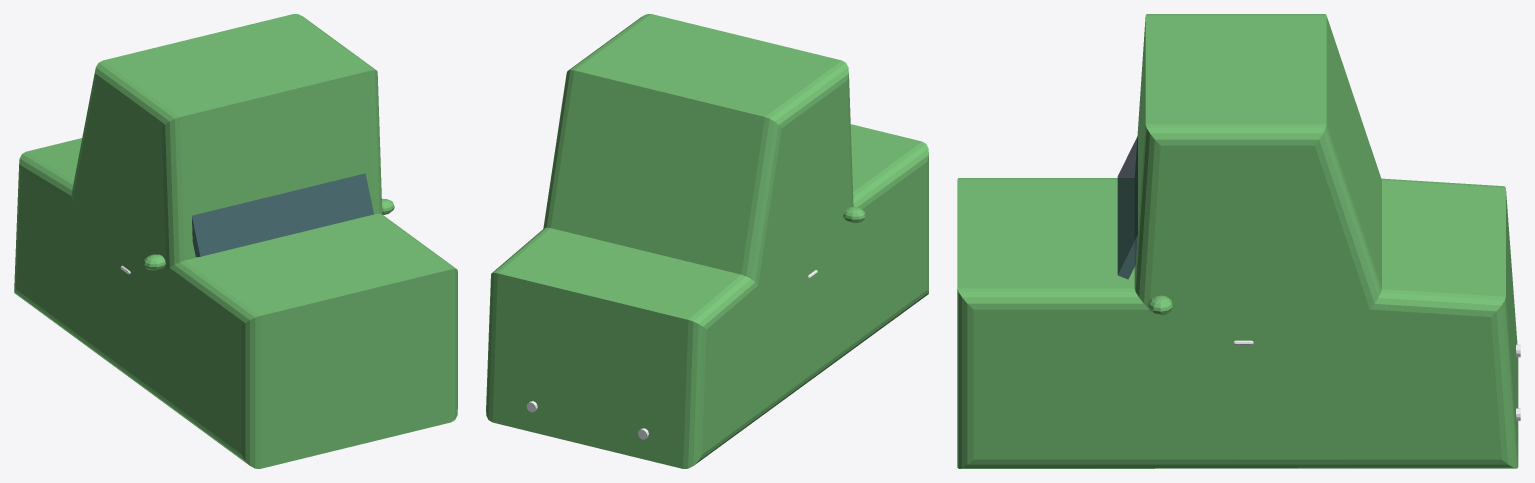
The model's file is veh_trator.glb.
3 renders of one model, left to right at view 1: azimuth 30°, elevation 25°; view 2: azimuth 150°, elevation 25°; view 3: azimuth 270°, elevation 25°, orthographic. The views are drawn at different scales.
Parts seen in each view (by area): view 1: veh_trator; view 2: veh_trator; view 3: veh_trator.
Part boxes in pixels (x1,y1,x2,y2): veh_trator: (14,14,457,468); veh_trator: (486,14,928,468); veh_trator: (957,14,1520,468).
Size of the model in its own units: 2.33 by 2.61 by 3.89.
